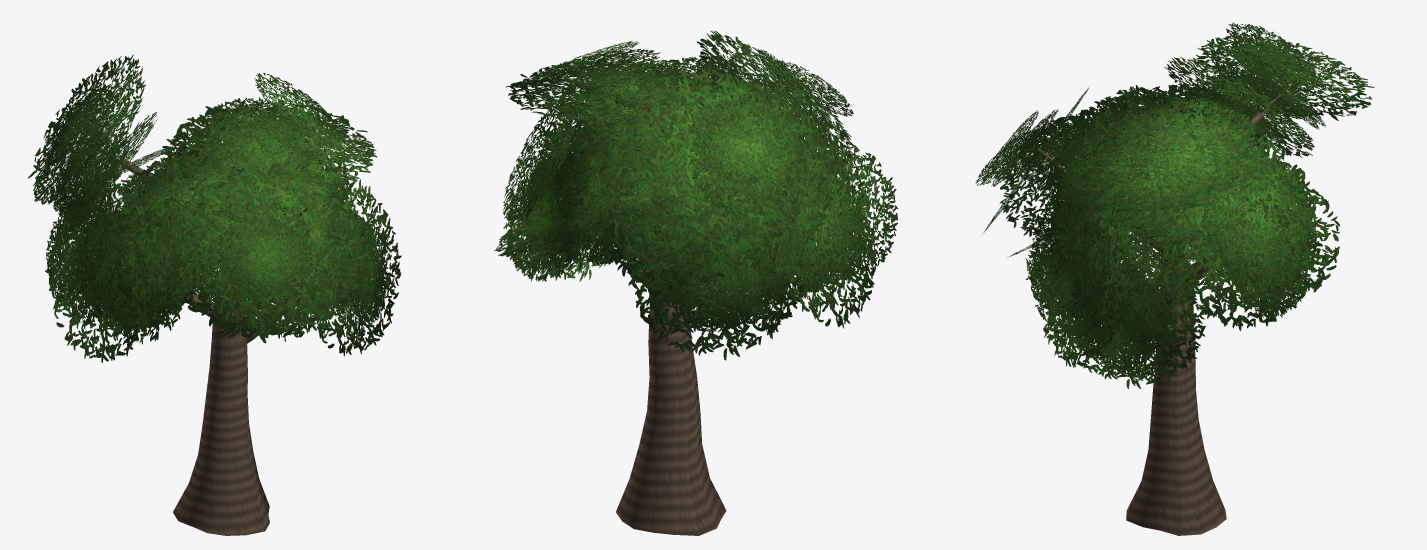
File: lowpoly_tree_hi.obj
3 renders of one model, left to right at view 1: azimuth 30°, elevation 25°; view 2: azimuth 150°, elevation 25°; view 3: azimuth 270°, elevation 25°, orthographic. The views are drawn at different scales.
Visible parts, largest first — view 1: tree; view 2: tree; view 3: tree.
Part boxes in pixels (box(x1,y1,x2,y2)): tree: box(28, 54, 401, 535); tree: box(494, 30, 898, 535); tree: box(975, 22, 1374, 535).
Size of the model in its own units: 2.63 by 3.14 by 2.79.
Materials: 2 (2 with a texture image).
